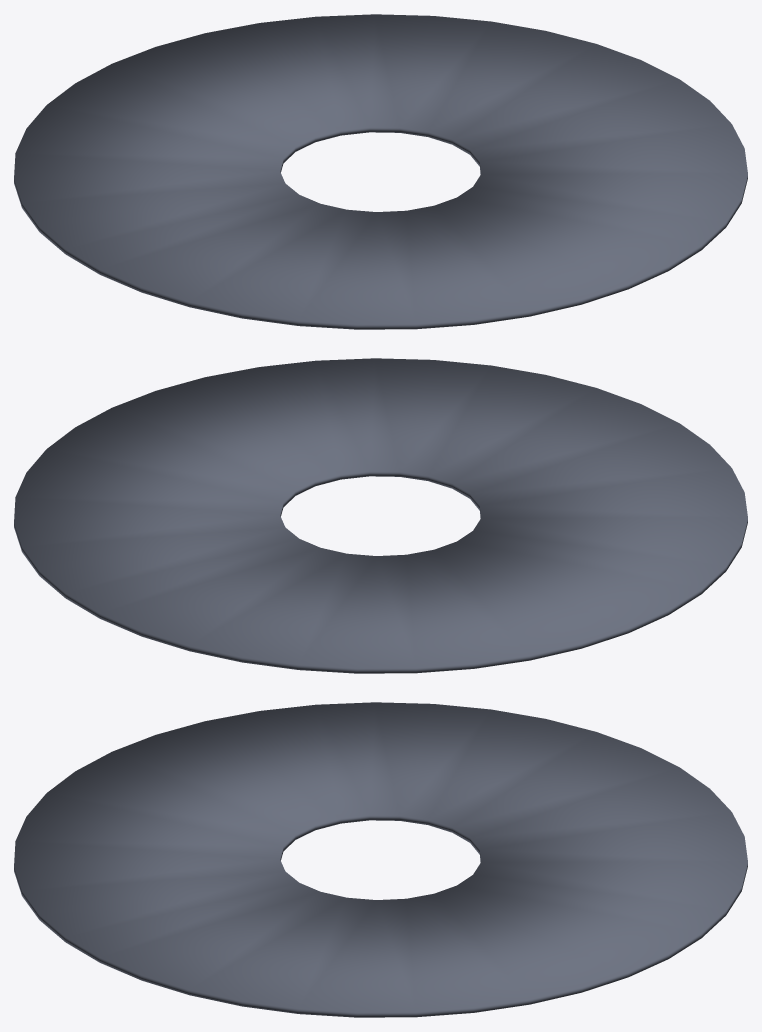
The model's file is solo_upper_leg_left_side_11.obj.
3 renders of one model, top to bottom at view 1: azimuth 30°, elevation 25°; view 2: azimuth 150°, elevation 25°; view 3: azimuth 270°, elevation 25°, orthographic.
Size of the model in its own units: 0.0255 by 0.0002 by 0.0255.
